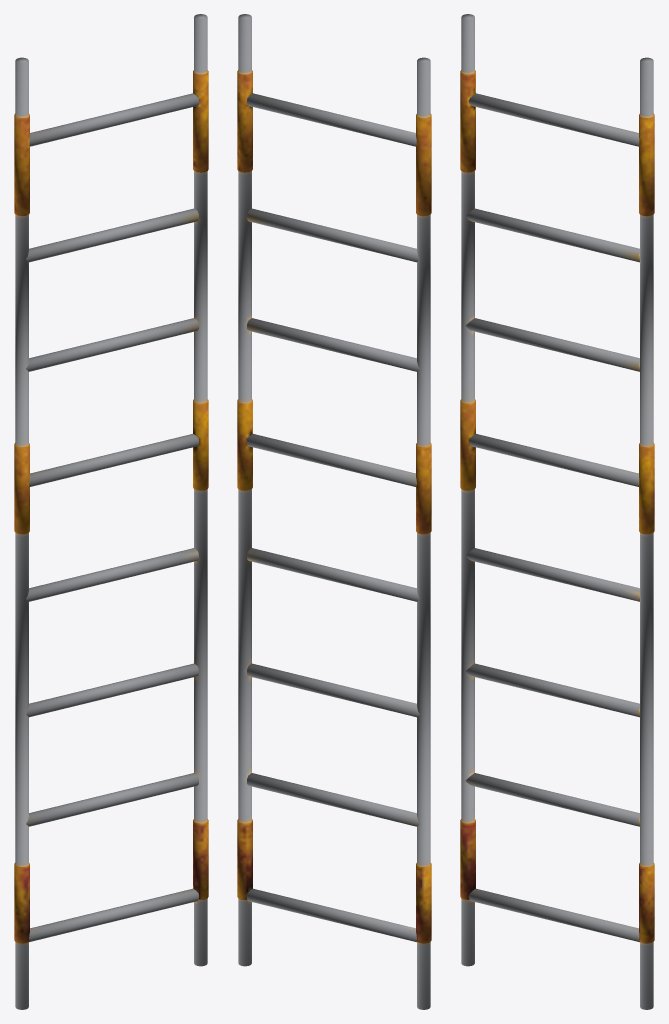
Rendered from bunker_ladder.60bdf63d4b.glb.
The picture shows the model from 3 angles, left to right: view 1: azimuth 30°, elevation 25°; view 2: azimuth 150°, elevation 25°; view 3: azimuth 330°, elevation 25°; orthographic projection.
Visible parts, largest first — view 1: bunker_ladder; view 2: bunker_ladder; view 3: bunker_ladder.
Part boxes in pixels (left/top/right/bottom): bunker_ladder: left=14, top=14, right=208, bottom=1009; bunker_ladder: left=237, top=14, right=431, bottom=1009; bunker_ladder: left=460, top=14, right=654, bottom=1009.
Bounding box in the file's own units: 0.638 × 3 × 0.0465.
1 material, 1 textured.
